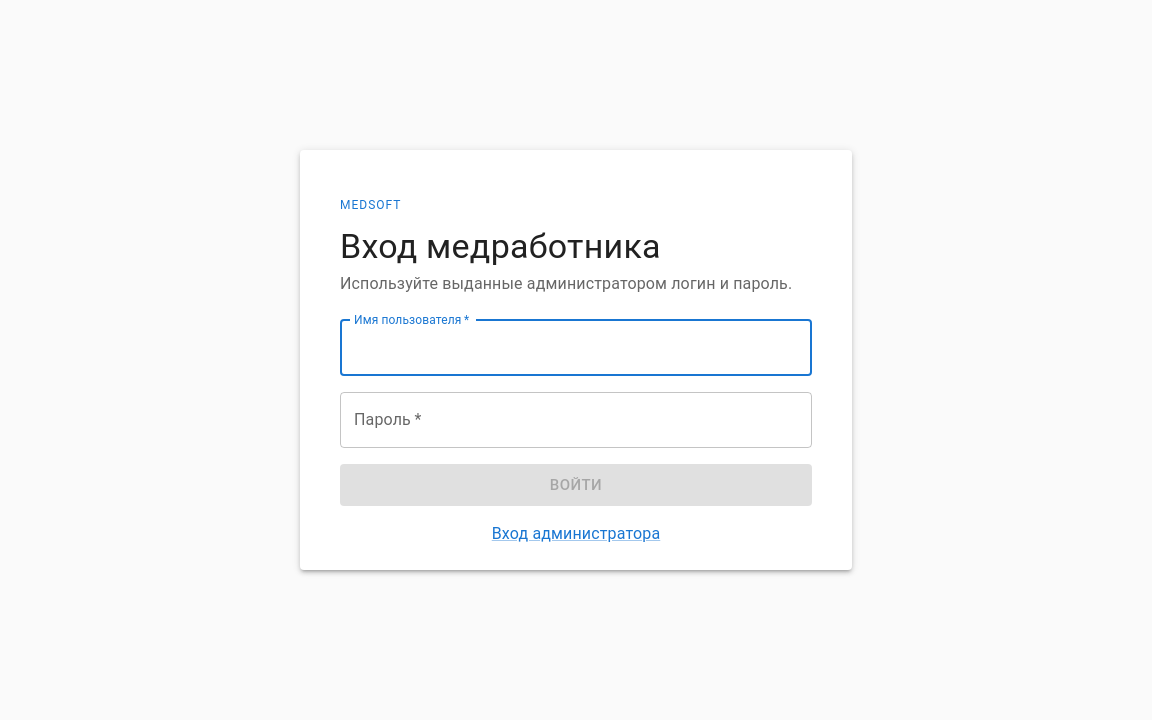
it: authentication interfaces › logs a medical worker in and reports an inactive account generically
Type "doctor" into the field labelled "Имя пользователя *" at (576,348), box [340,320,812,376]
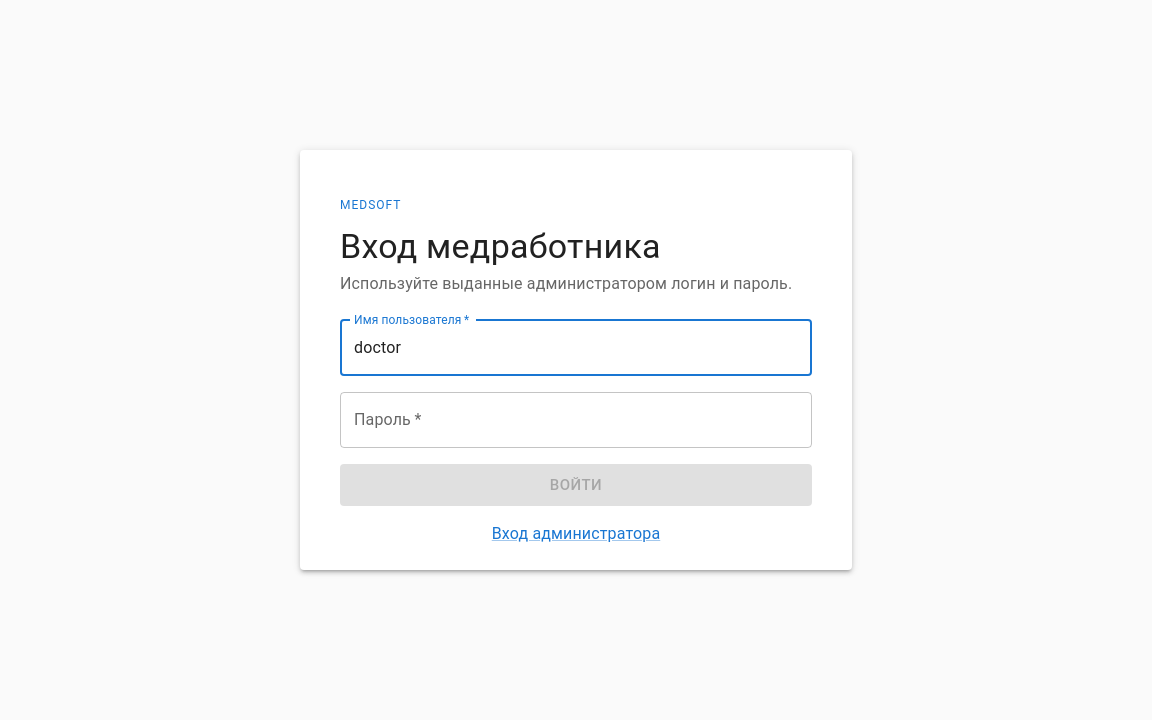
Type "password" into the password field labelled "Пароль *" at (576,420), box [340,392,812,448]
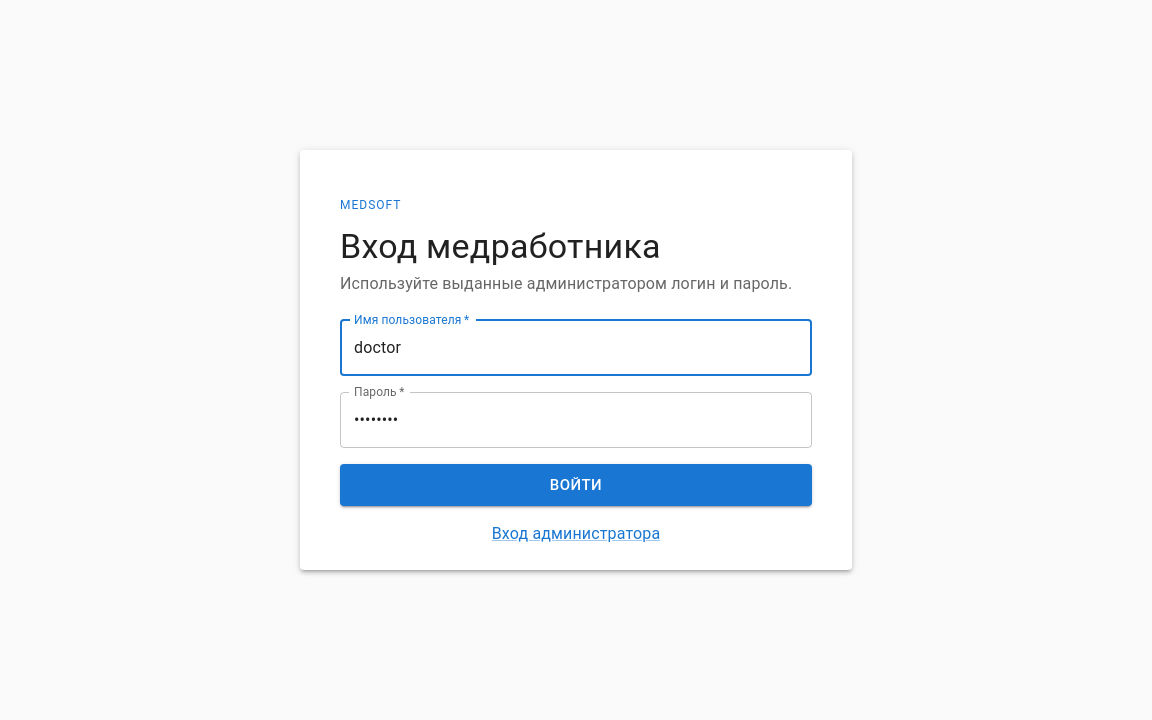
Click the button "Войти" at (576,485), box [340,464,812,506]
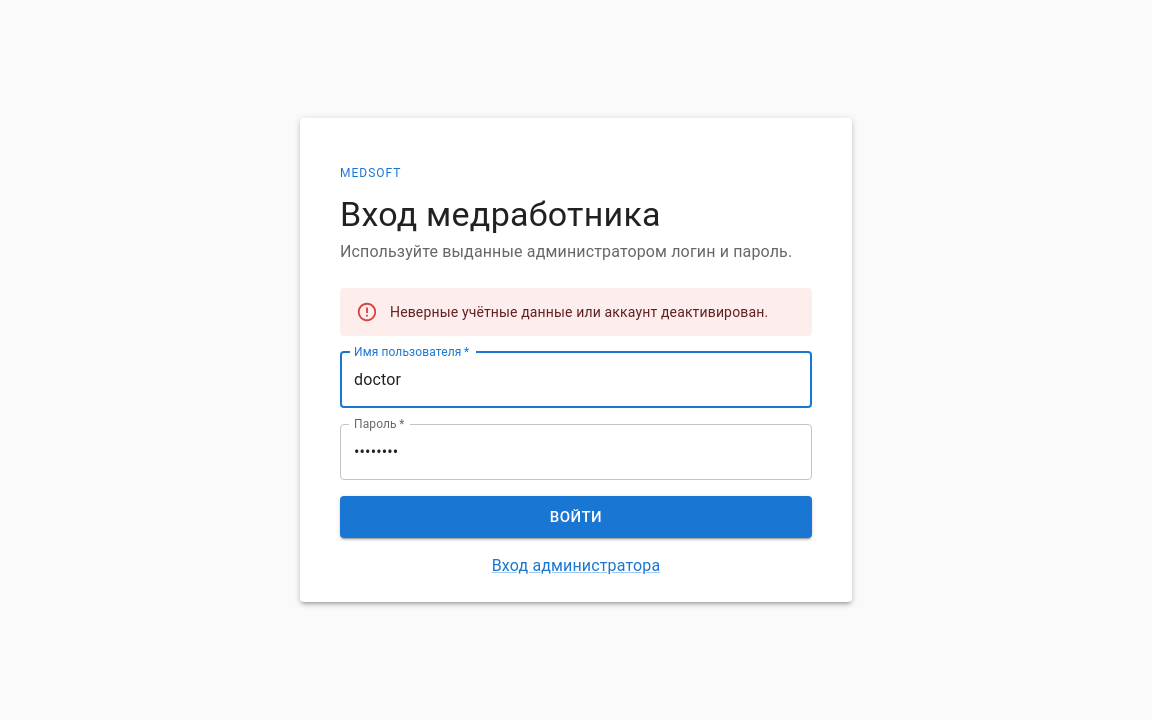
Result: the text "Неверные учётные данные или аккаунт деактивирован." is shown at [390,304,768,320]
Click the button "Войти" at (576,517), box [340,496,812,538]
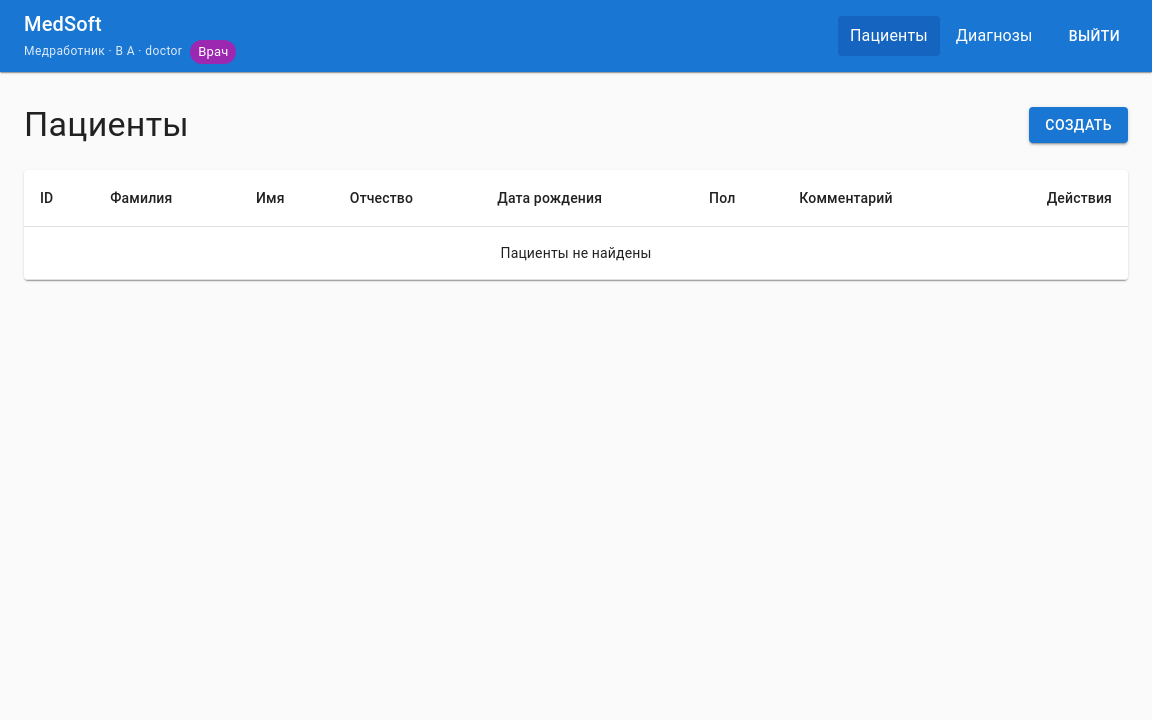
Result: the heading "Пациенты" is shown at [24,104,189,146]
